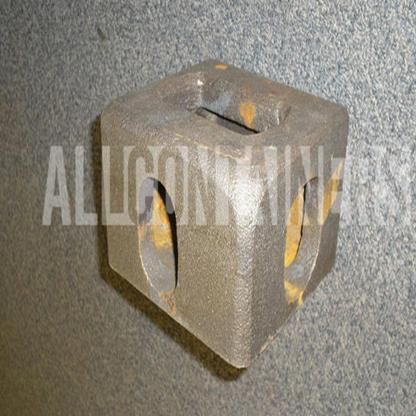CornerCasting: (88, 58, 362, 371)
